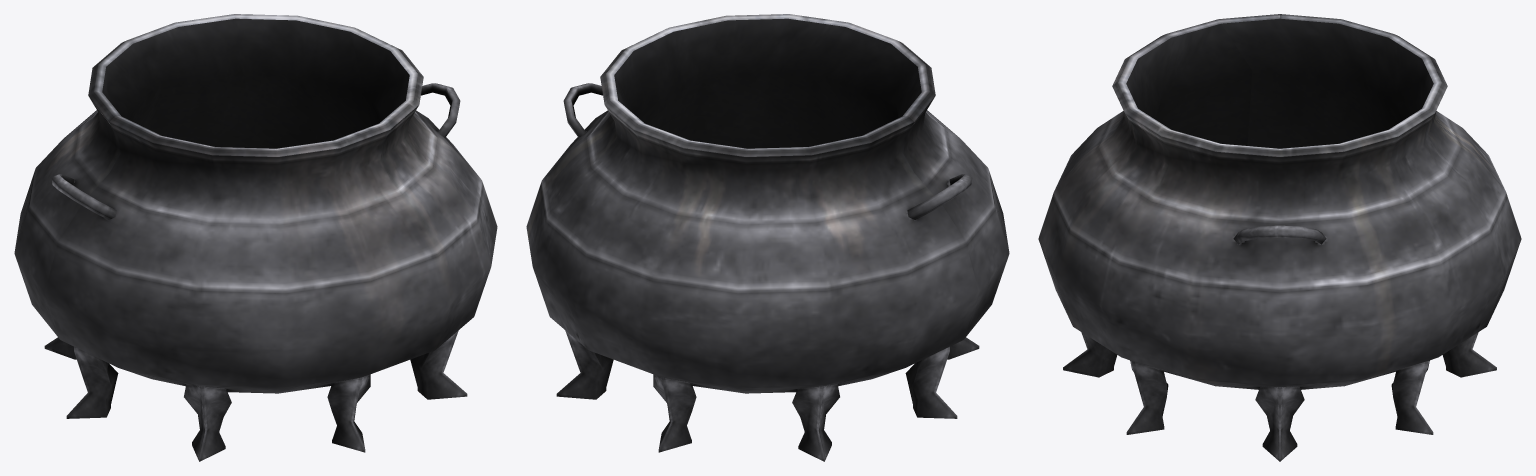
Rendered from Kettle.FBX.
3 renders of one model, left to right at view 1: azimuth 30°, elevation 25°; view 2: azimuth 150°, elevation 25°; view 3: azimuth 270°, elevation 25°, orthographic.
Parts seen in each view (by area): view 1: kettle; view 2: kettle; view 3: kettle.
Boxes of the visible parts, x1,y1,x2,y2 form: kettle: (14,14,497,461); kettle: (526,14,1009,461); kettle: (1038,14,1521,461).
Size of the model in its own units: 32.65 by 21.5 by 32.65.
